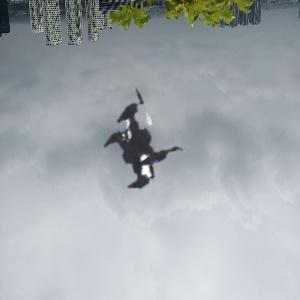drone: (1, 16, 284, 299)
